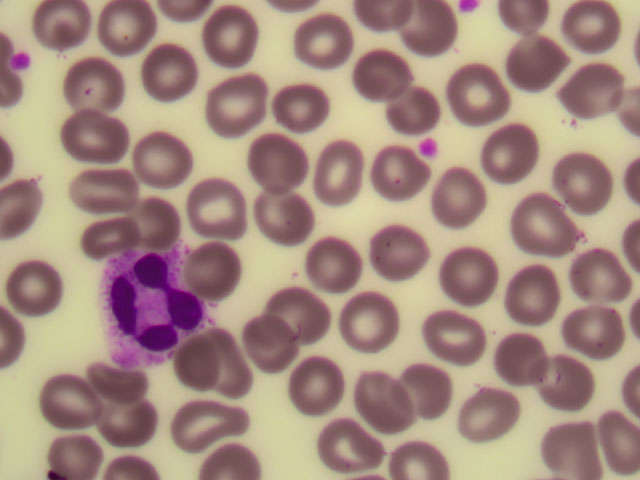Platelets: (416, 131, 442, 161), (12, 54, 33, 72)
RBC: (51, 427, 106, 480), (197, 427, 252, 480), (393, 427, 448, 480), (542, 427, 597, 480), (136, 46, 191, 98), (201, 8, 256, 60), (65, 55, 120, 107), (68, 114, 123, 166), (73, 164, 128, 216), (78, 213, 133, 265), (141, 192, 196, 244), (187, 180, 242, 232), (134, 132, 189, 184), (205, 77, 260, 129), (273, 78, 328, 130), (248, 141, 303, 193), (253, 198, 308, 250), (299, 147, 354, 199), (367, 145, 422, 197), (380, 78, 435, 130), (354, 49, 409, 101), (299, 22, 354, 74), (408, 2, 463, 54), (446, 65, 501, 117), (514, 38, 569, 90), (567, 7, 622, 59), (566, 67, 621, 119), (556, 155, 611, 207), (517, 205, 572, 257), (487, 127, 542, 179), (435, 169, 490, 221), (378, 221, 433, 273), (316, 246, 371, 298), (334, 298, 389, 350), (269, 286, 324, 338), (245, 315, 300, 367), (187, 243, 242, 295), (206, 344, 261, 396), (177, 335, 232, 387), (87, 350, 142, 402), (41, 374, 96, 426), (98, 392, 153, 444), (7, 263, 62, 315), (175, 396, 230, 448), (304, 423, 359, 475), (347, 385, 402, 437), (287, 357, 342, 409), (407, 366, 462, 418), (462, 391, 517, 443), (499, 326, 554, 378), (543, 353, 598, 405), (570, 305, 625, 357), (578, 248, 633, 300), (503, 261, 558, 313), (446, 249, 501, 301), (420, 316, 475, 368), (585, 402, 640, 454), (3, 180, 58, 232), (34, 1, 89, 52), (99, 1, 154, 52)
WBC: (96, 245, 204, 367)
